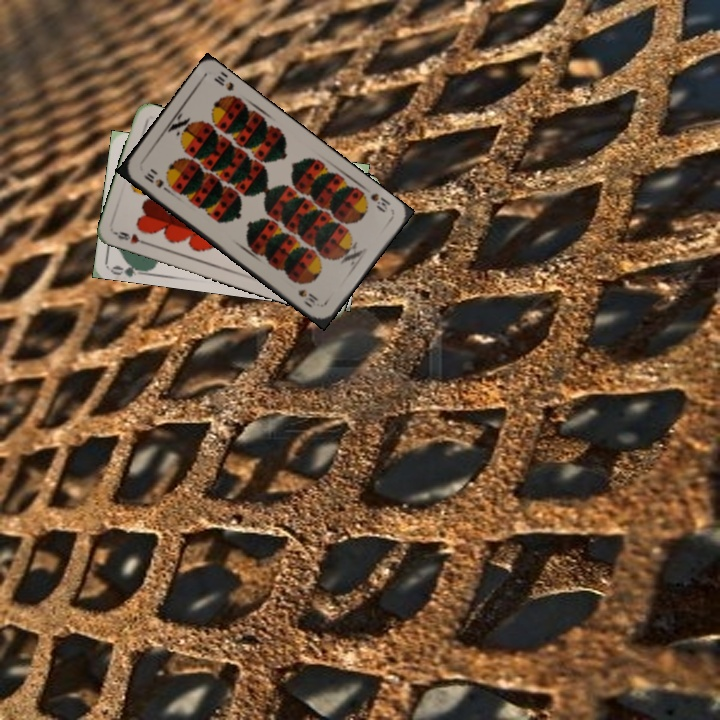GO: (108, 257, 149, 278)
H9: (111, 227, 151, 248)
S10: (140, 169, 172, 195), (366, 189, 393, 215)
